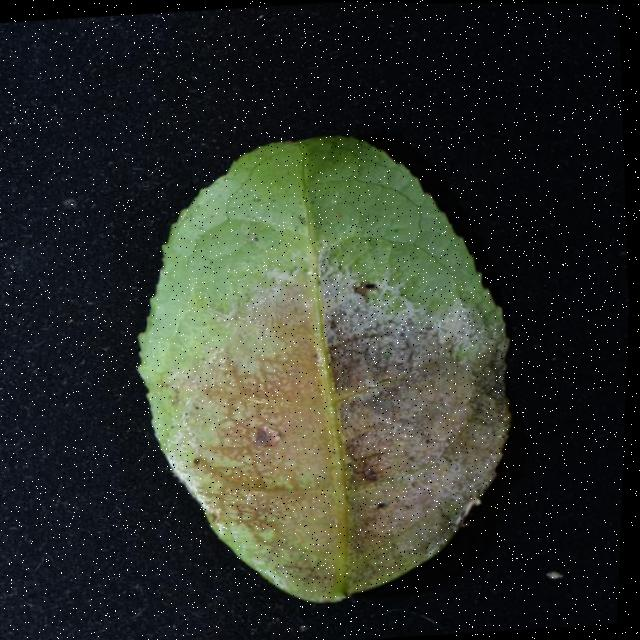Tea exobasidium blight: (170, 259, 527, 606)
